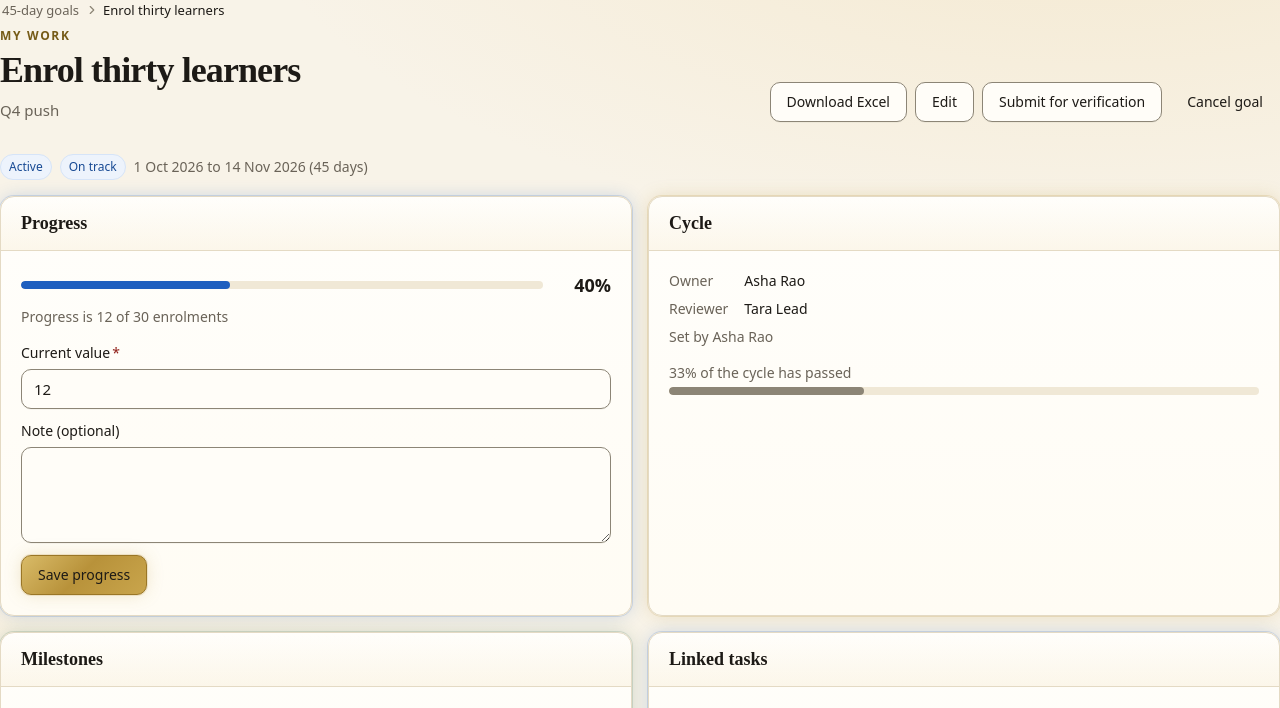
it: GoalDetailPage › a stale-version conflict is shown, not swallowed as success
The image size is (1280, 708).
Click the button "Save progress" at x=84, y=575, box [21,555,147,595]
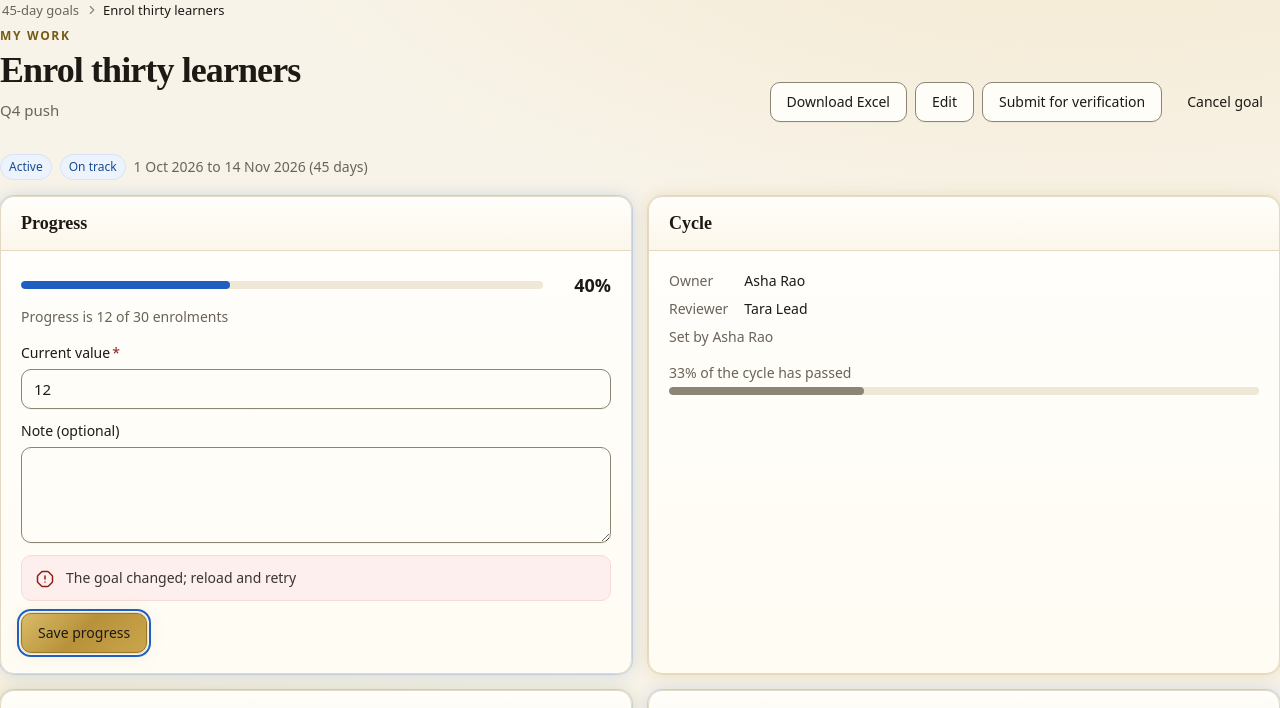
Expected: the text "The goal changed; reload and retry" is shown, [66,568,296,587]
